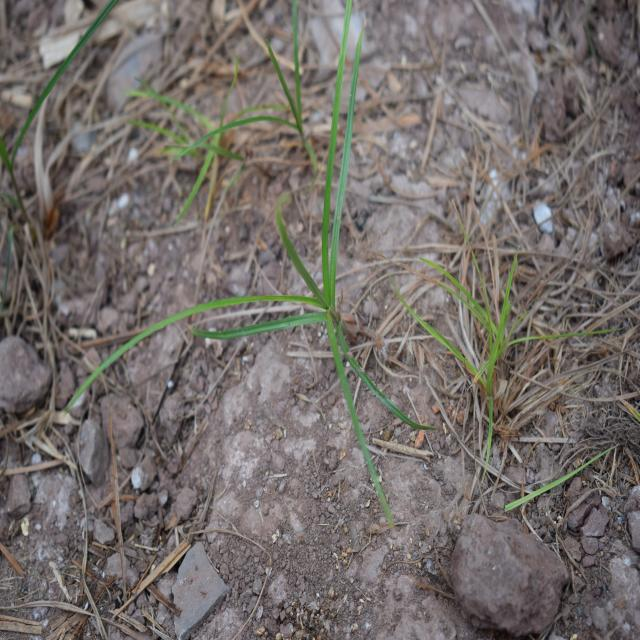sedge: (107, 74, 441, 475)
